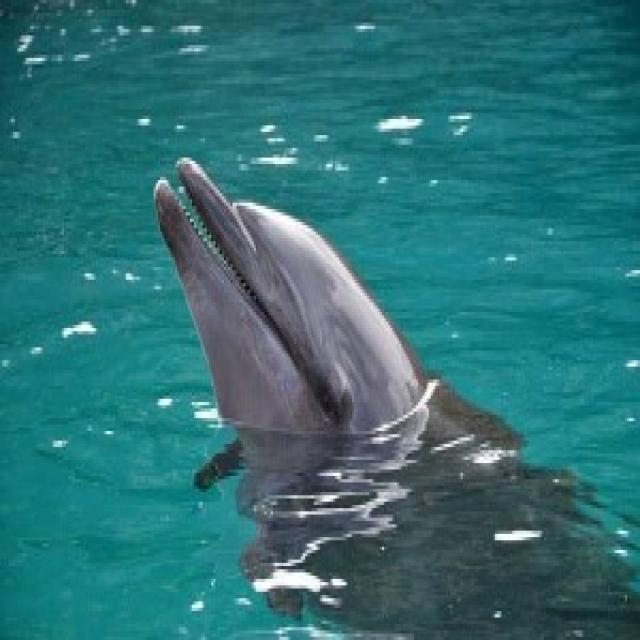Dolphin: (148, 148, 608, 640)
